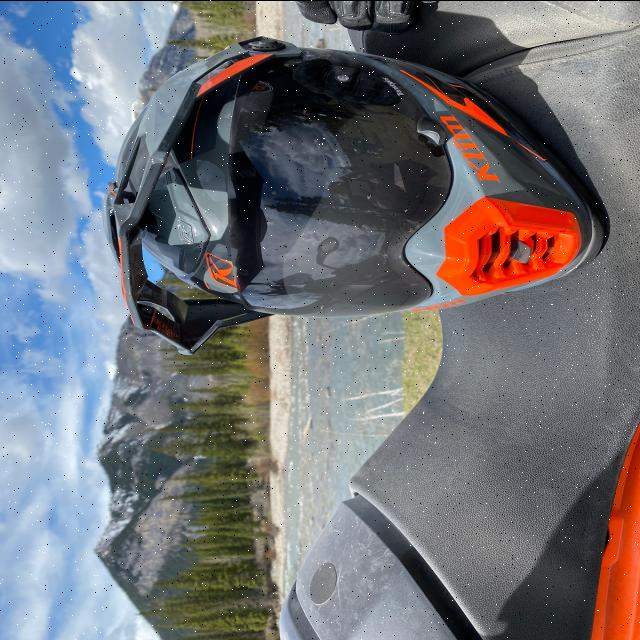Helmet: (103, 36, 603, 354)
